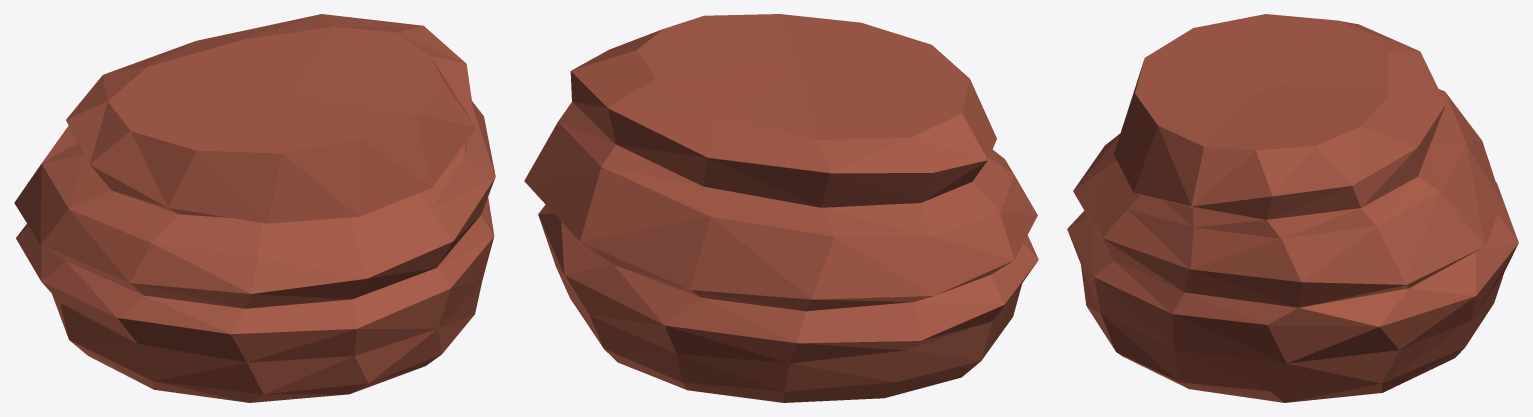
File: crag_003.fbx
3 renders of one model, left to right at view 1: azimuth 30°, elevation 25°; view 2: azimuth 150°, elevation 25°; view 3: azimuth 270°, elevation 25°, orthographic. The views are drawn at different scales.
Visible parts, largest first — view 1: crag_003; view 2: crag_003; view 3: crag_003.
Part boxes in pixels (x1,y1,x2,y2): crag_003: (14,14,495,402); crag_003: (524,14,1038,402); crag_003: (1067,14,1518,402).
Size of the model in its own units: 1124 by 1004 by 599.
